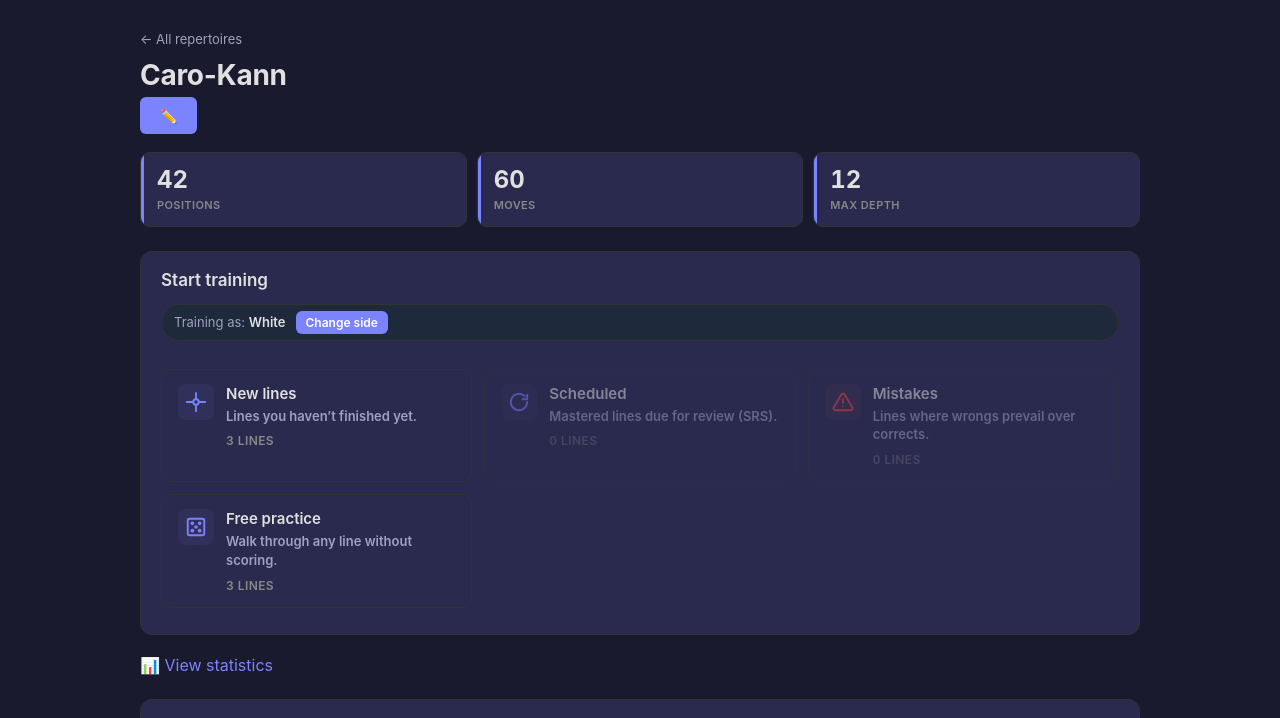
Test: OpeningTrainerDetailPage › KS-3482: пустой title → errorEmpty, PATCH не вызывается
Click the heading with test id "opening-trainer-detail-title" at (213, 75), box [140, 58, 287, 92]
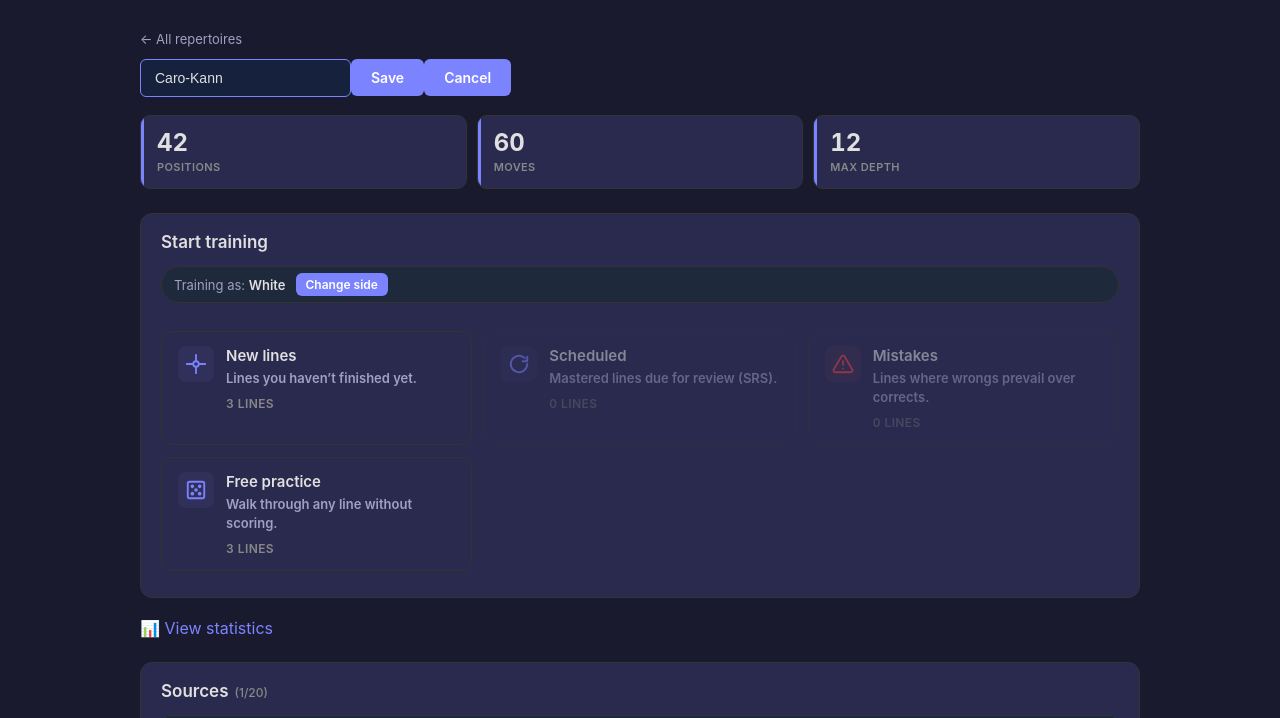
Clear the field with test id "opening-trainer-detail-title-input" at (246, 78), box [140, 59, 351, 97]
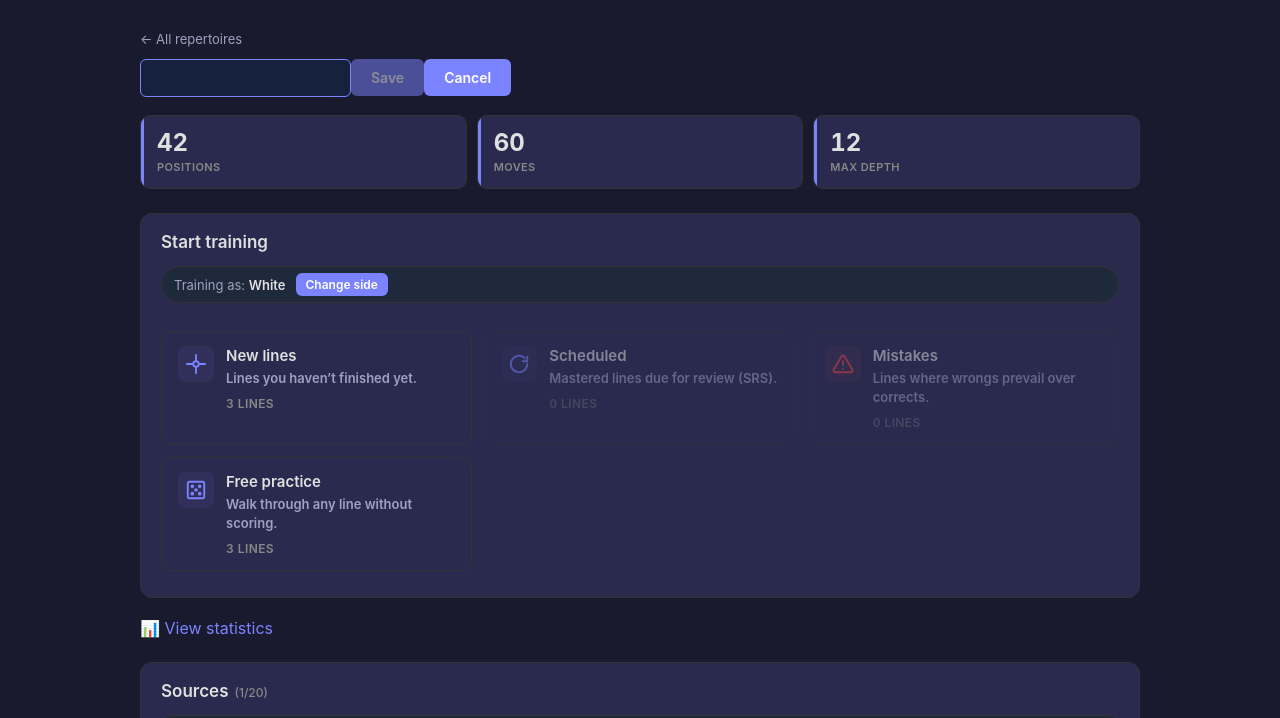
Result: the button with test id "opening-trainer-detail-title-save" is disabled at [351, 59, 424, 96]
